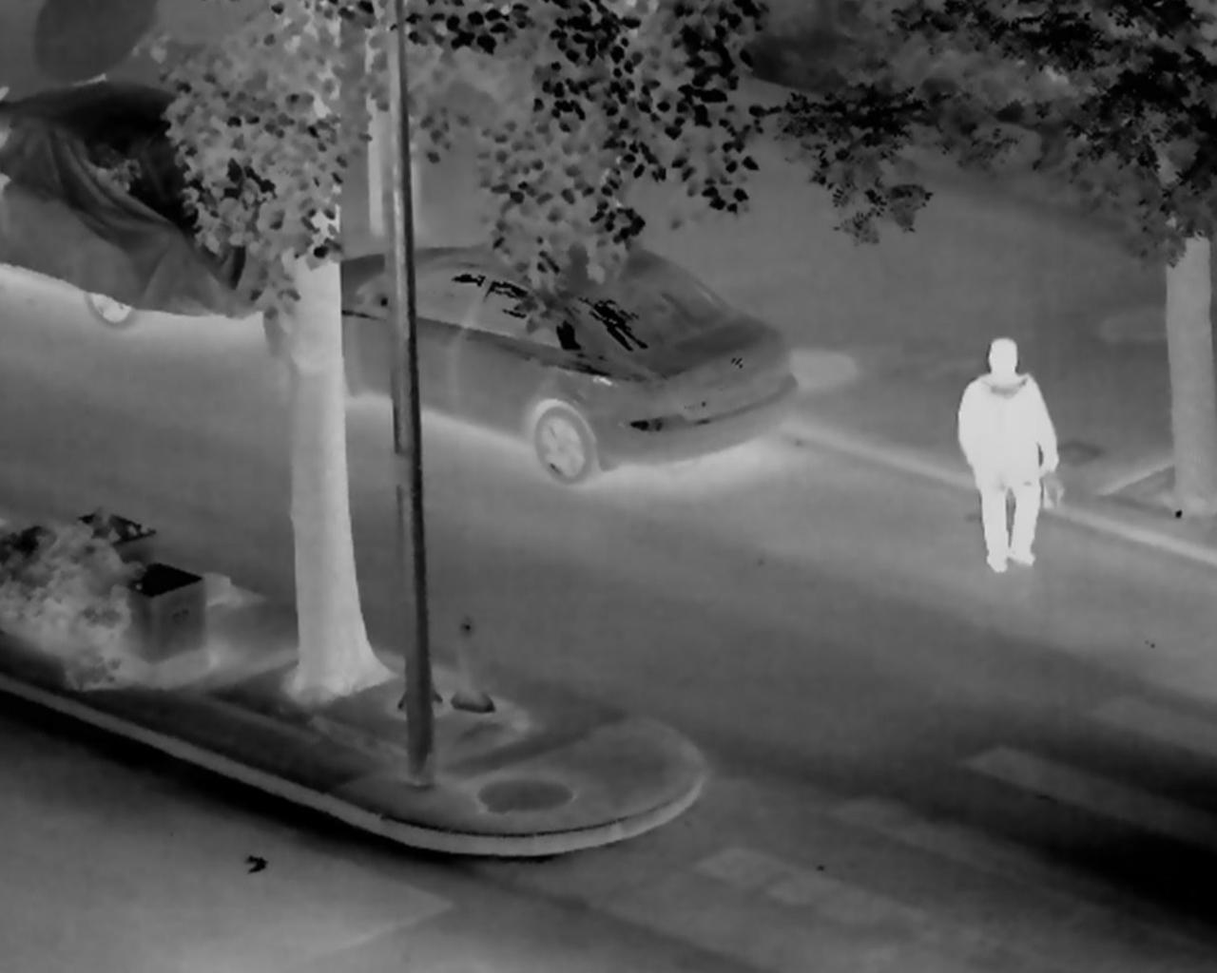person: (956, 337, 1060, 571)
